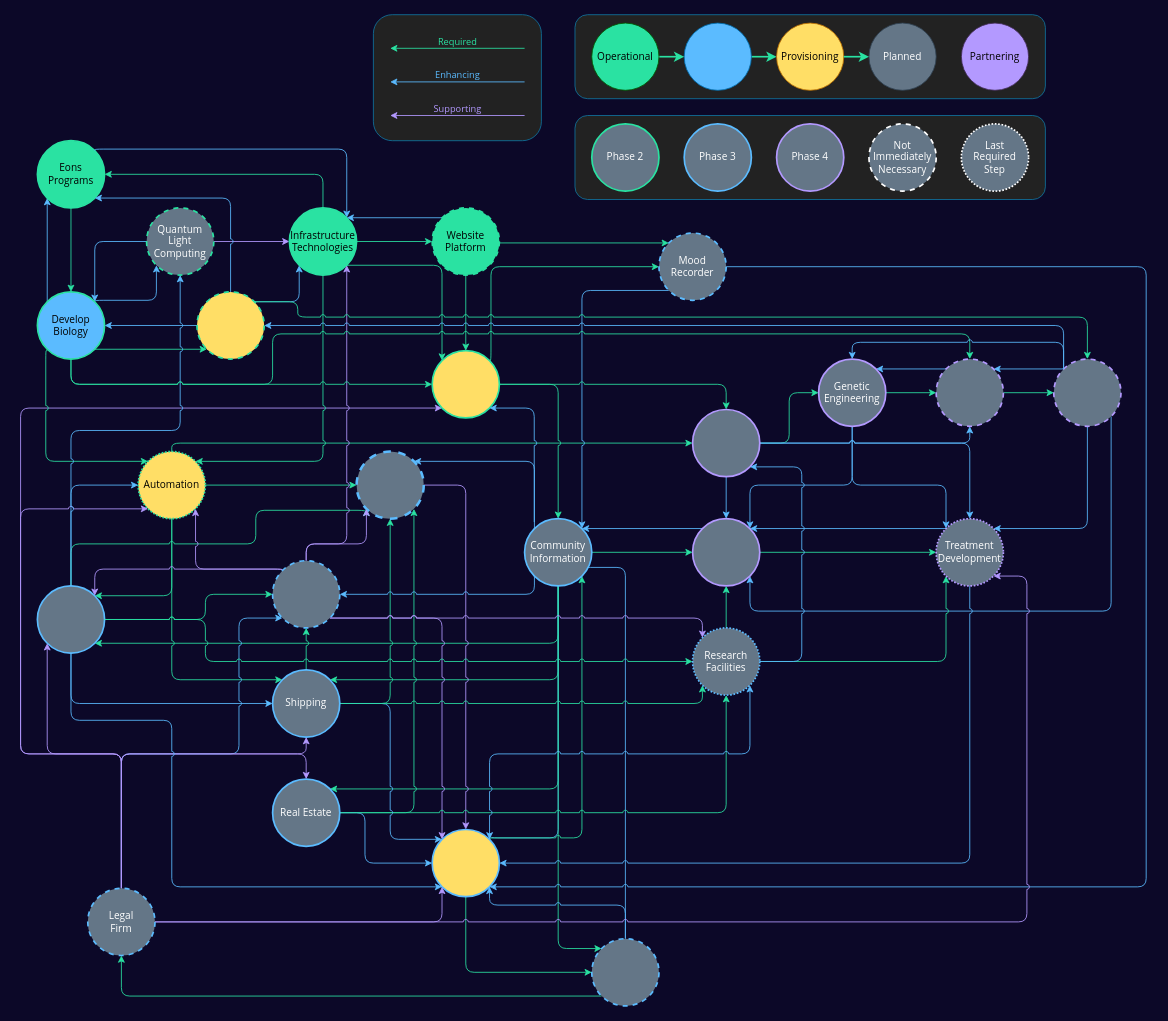
Image size: 1168x1021. Some labels were removed from this diagram. The centre of each missing label's shape, as x and y in pixels:
"Bio Compiler" goes at [969,392].
"Bio Programming" goes at [1087,392].
"Community" goes at [465,862].
"Constellatus" goes at [465,383].
"Developing" goes at [717,56].
"Food Growth" goes at [390,485].
"Lab Automation" goes at [725,442].
"Longevity Research" goes at [725,551].
"Manufacturing" goes at [70,619].
"Native Biology Language" goes at [230,325].
"Renewable Energy" goes at [305,593].
"Voting System" goes at [625,971].
